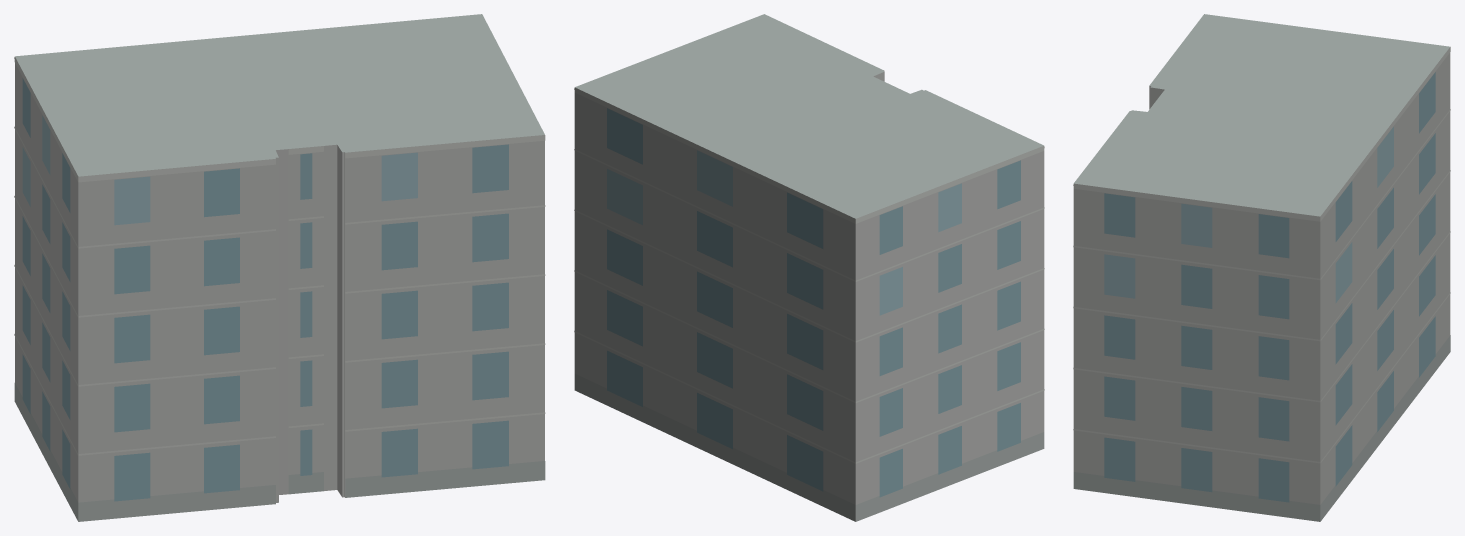
File: survey-upis-32739838.glb
The picture shows the model from 3 angles, left to right: view 1: azimuth 30°, elevation 25°; view 2: azimuth 150°, elevation 25°; view 3: azimuth 270°, elevation 25°; orthographic projection. The views are drawn at different scales.
Visible parts, largest first — view 1: survey-upis-32739838.tmp; view 2: survey-upis-32739838.tmp; view 3: survey-upis-32739838.tmp.
Boxes of the visible parts, x1,y1,x2,y2 form: survey-upis-32739838.tmp: (14, 14, 545, 521); survey-upis-32739838.tmp: (574, 14, 1044, 521); survey-upis-32739838.tmp: (1073, 14, 1450, 521).
Size of the model in its own units: 20.59 by 14.45 by 16.19.
